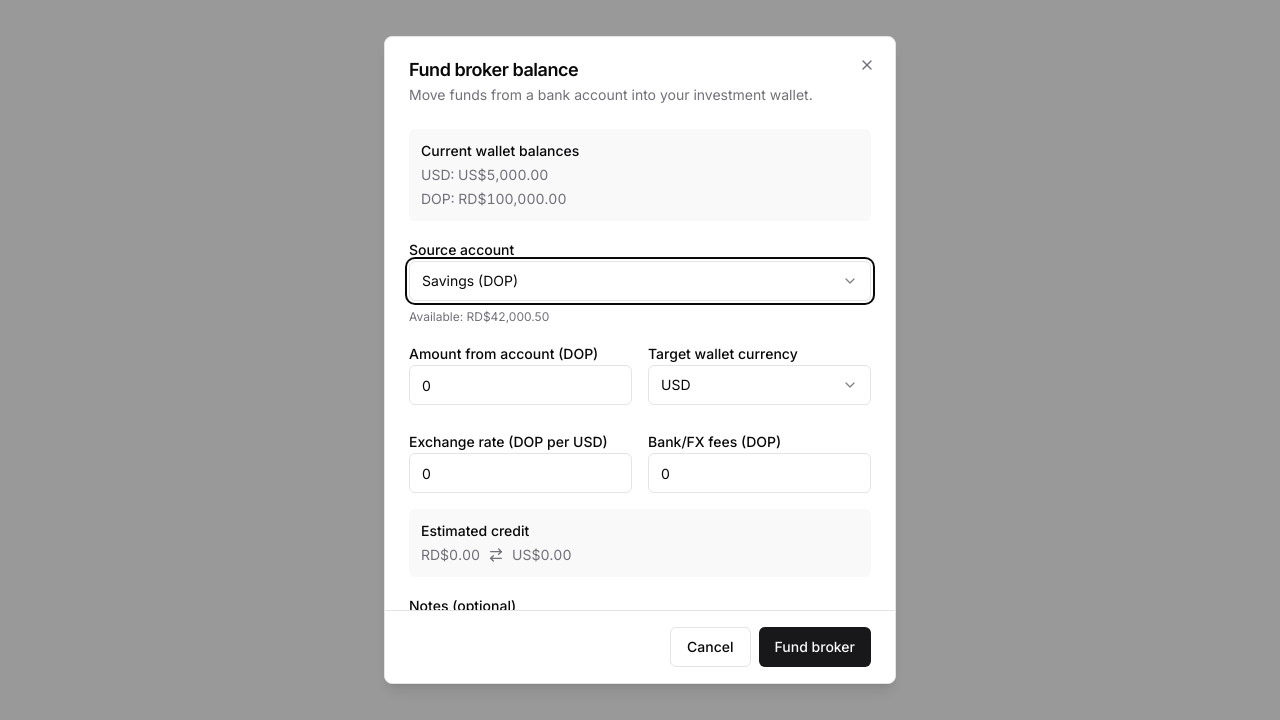
it: InvestmentFundingModal › never offers a credit card as the funding source
This screenshot has width=1280, height=720.
Click the dropdown labelled "Savings (DOP)" at (448, 280), box left=409, top=261, right=871, bottom=301
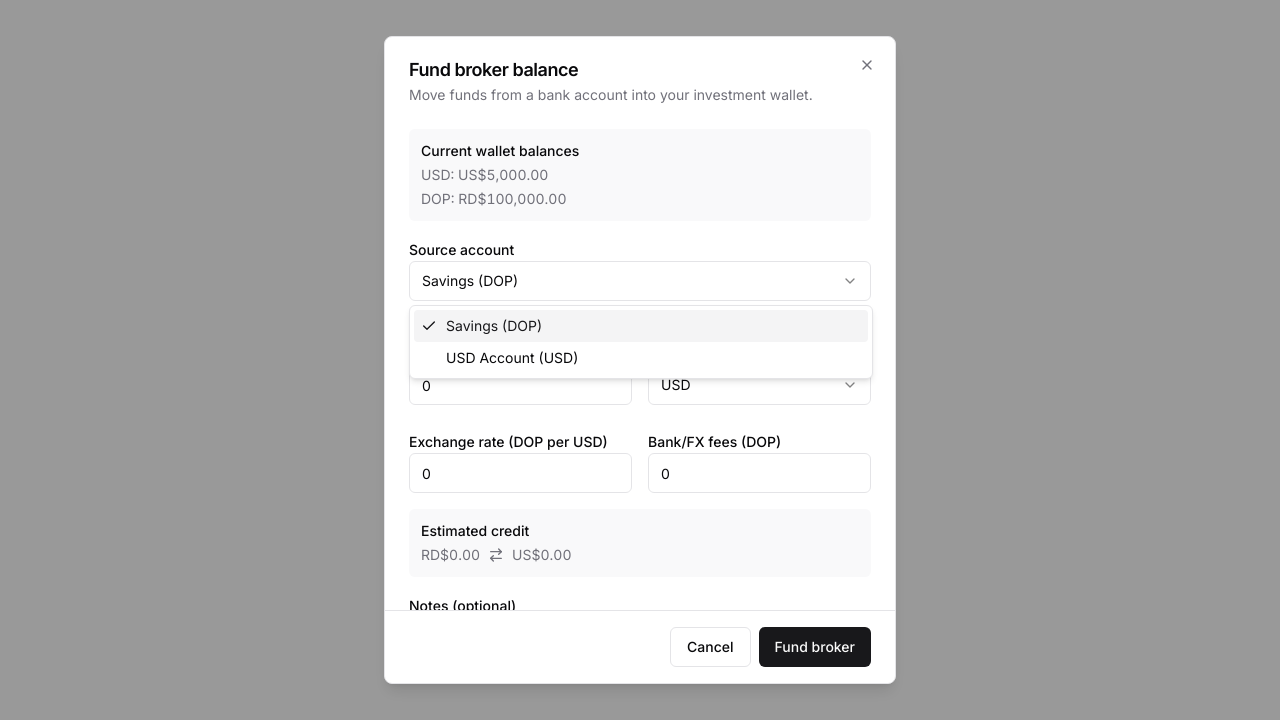
Expected: the option "USD Account (USD)" is shown, left=446, top=349, right=578, bottom=366
